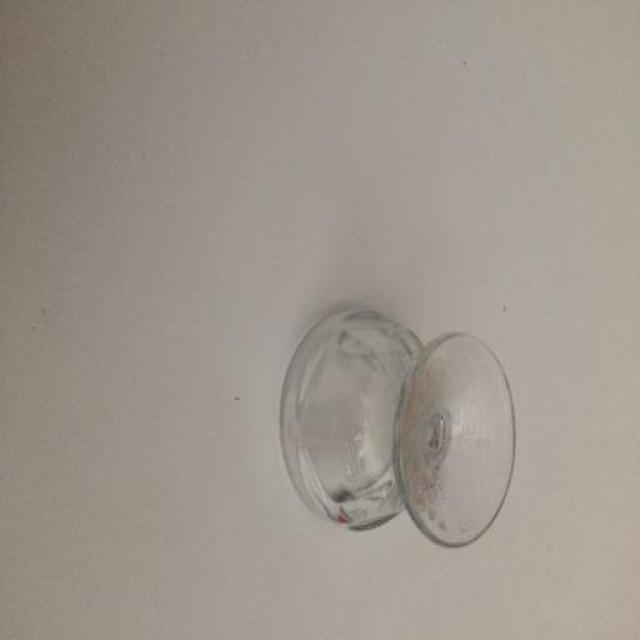glass: (276, 302, 518, 550)
